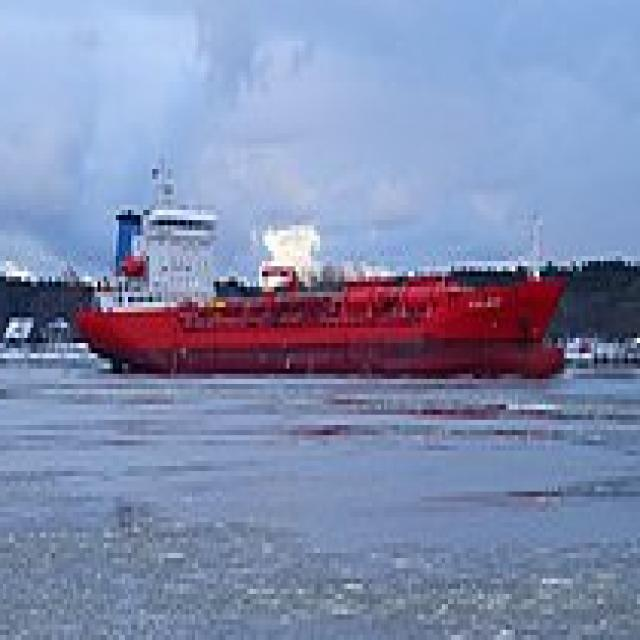Tanker: (76, 143, 576, 374)
